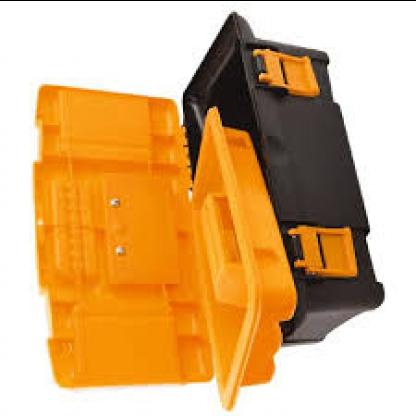Tool Box: (25, 6, 390, 413)
